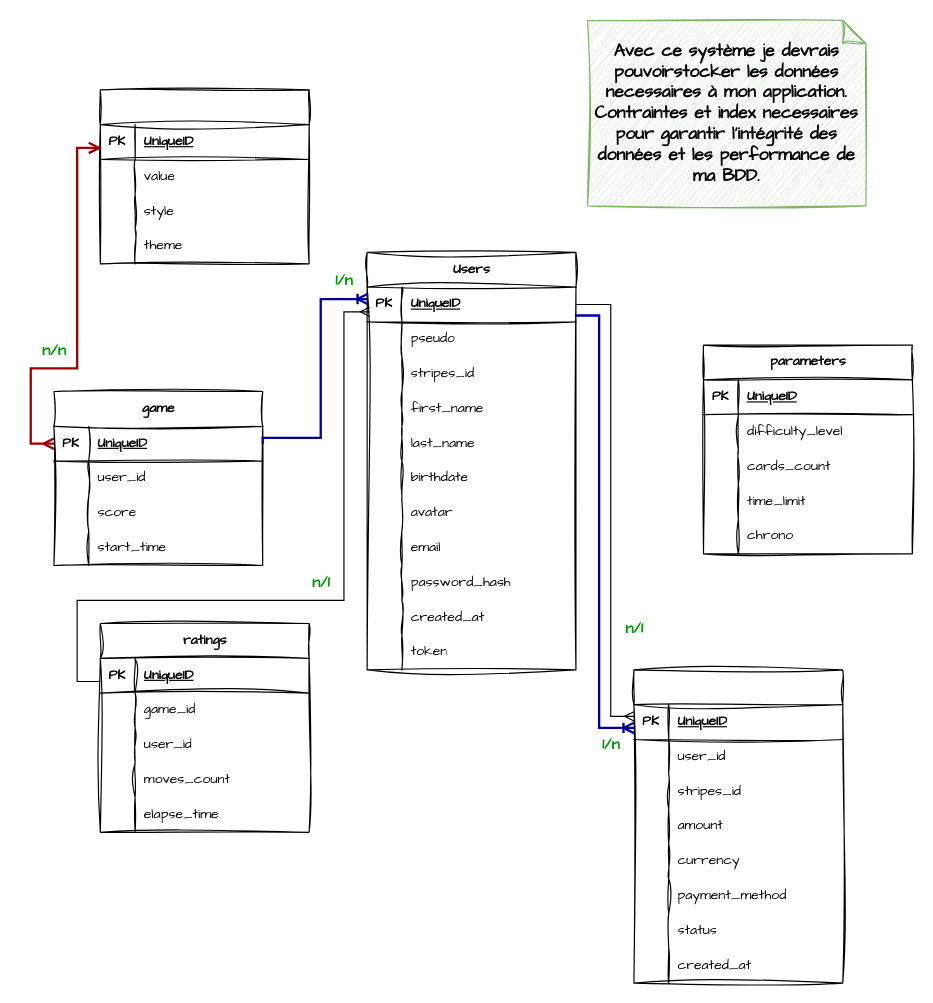
The diagram is 933 pixels wide and 1003 high, and some of its shapes have lost their labels. The shapes that lost their labels are listed below. From the top down, each one's box as (x1, y1, x2, y2) in pixels, then its label:
(99, 89, 309, 264): cards
(633, 669, 843, 983): transactions_stripes
